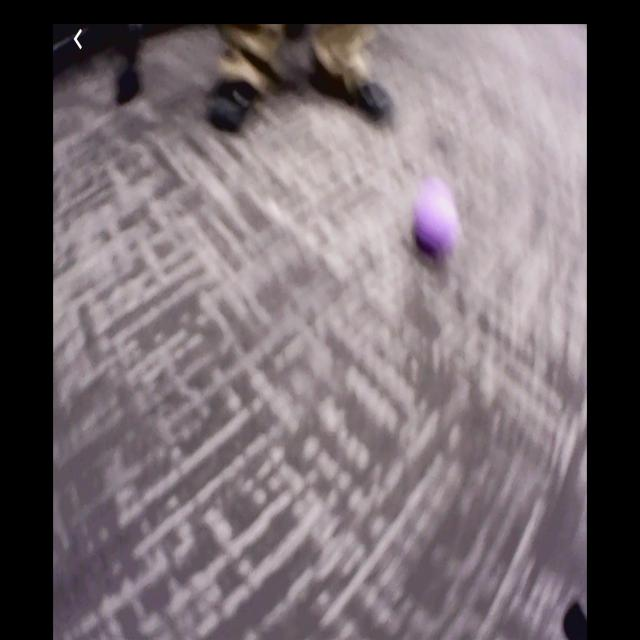ball: (418, 184, 456, 250)
